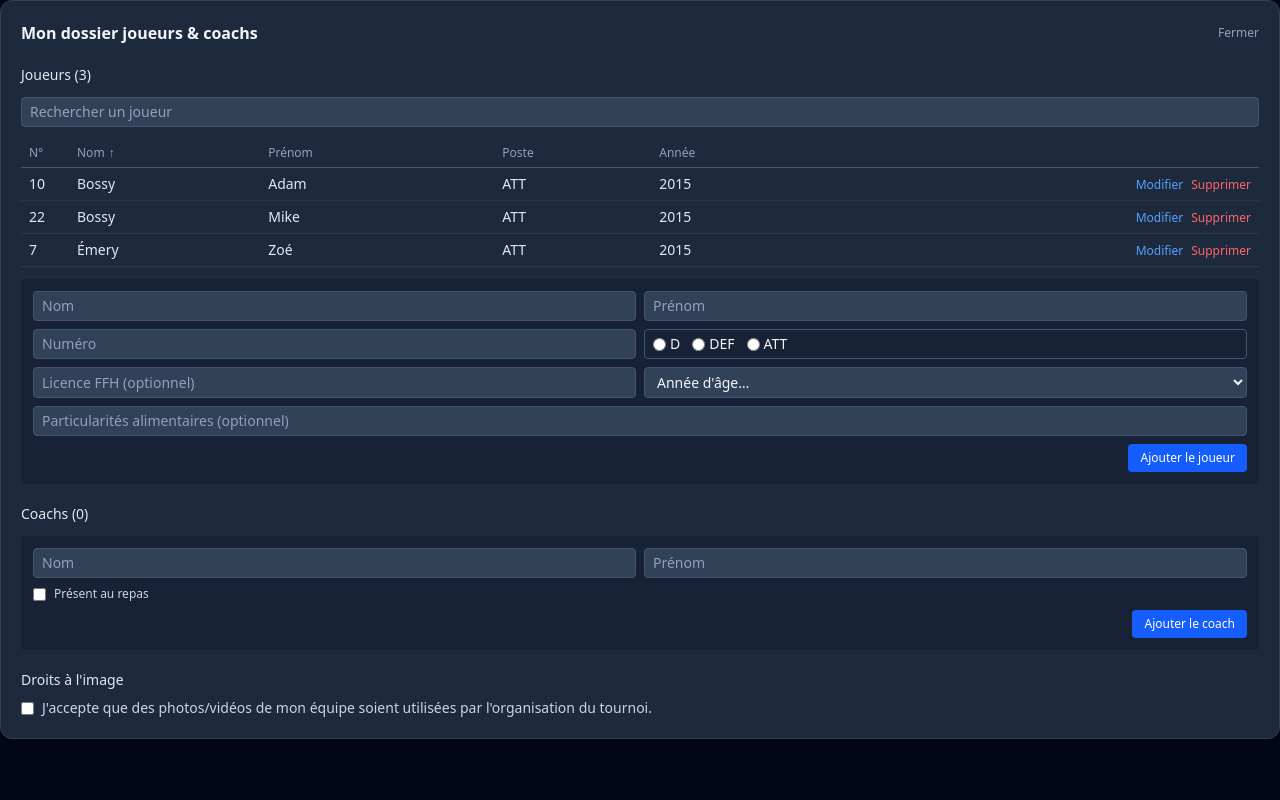
Test: DossierPanel › tableau des joueurs (backlog 1) › filtre sur nom et prénom sans tenir compte des accents et affiche « Joueurs (x sur y) »
Expected: the heading "Joueurs (3)" is shown, [21,65,91,84]
Type "emery" into the search field labelled "Rechercher un joueur" at (640, 112), box [21,97,1259,127]
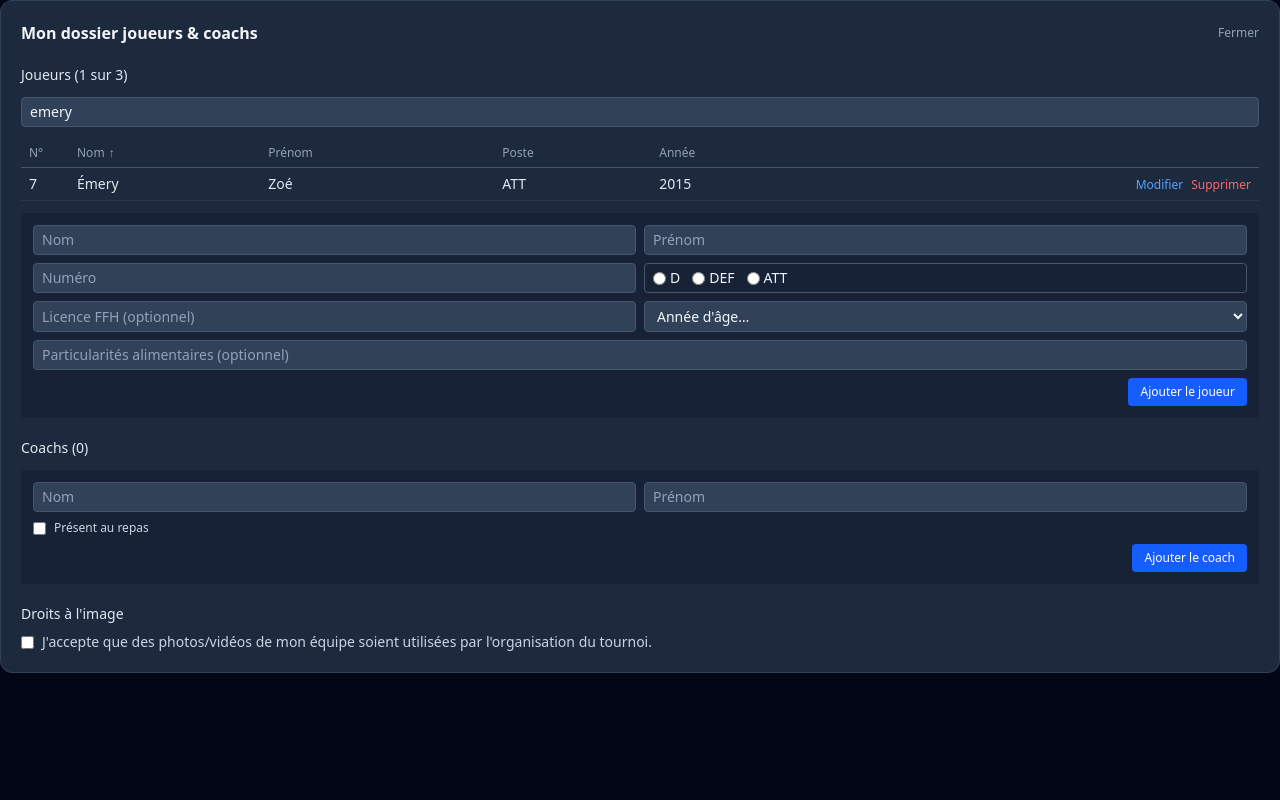
Result: the heading "Joueurs (1 sur 3)" is shown at [21,65,128,84]
